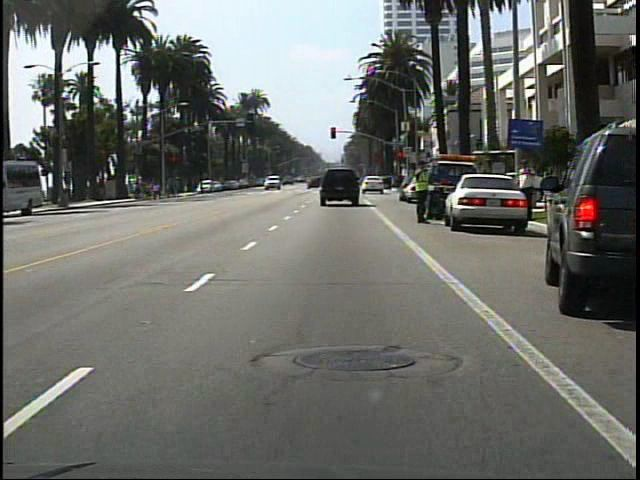person: (515, 157, 540, 235), (409, 161, 434, 226)
